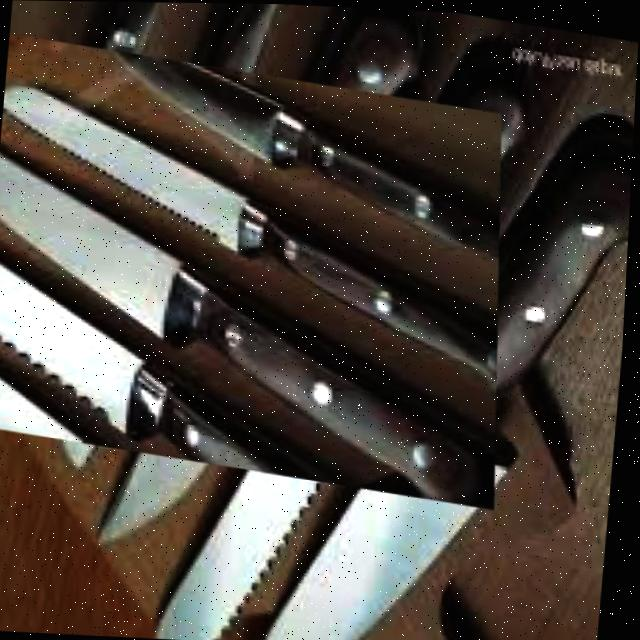knife: (0, 139, 517, 501), (265, 137, 635, 640), (0, 78, 525, 391), (97, 43, 519, 258), (0, 242, 368, 483)
